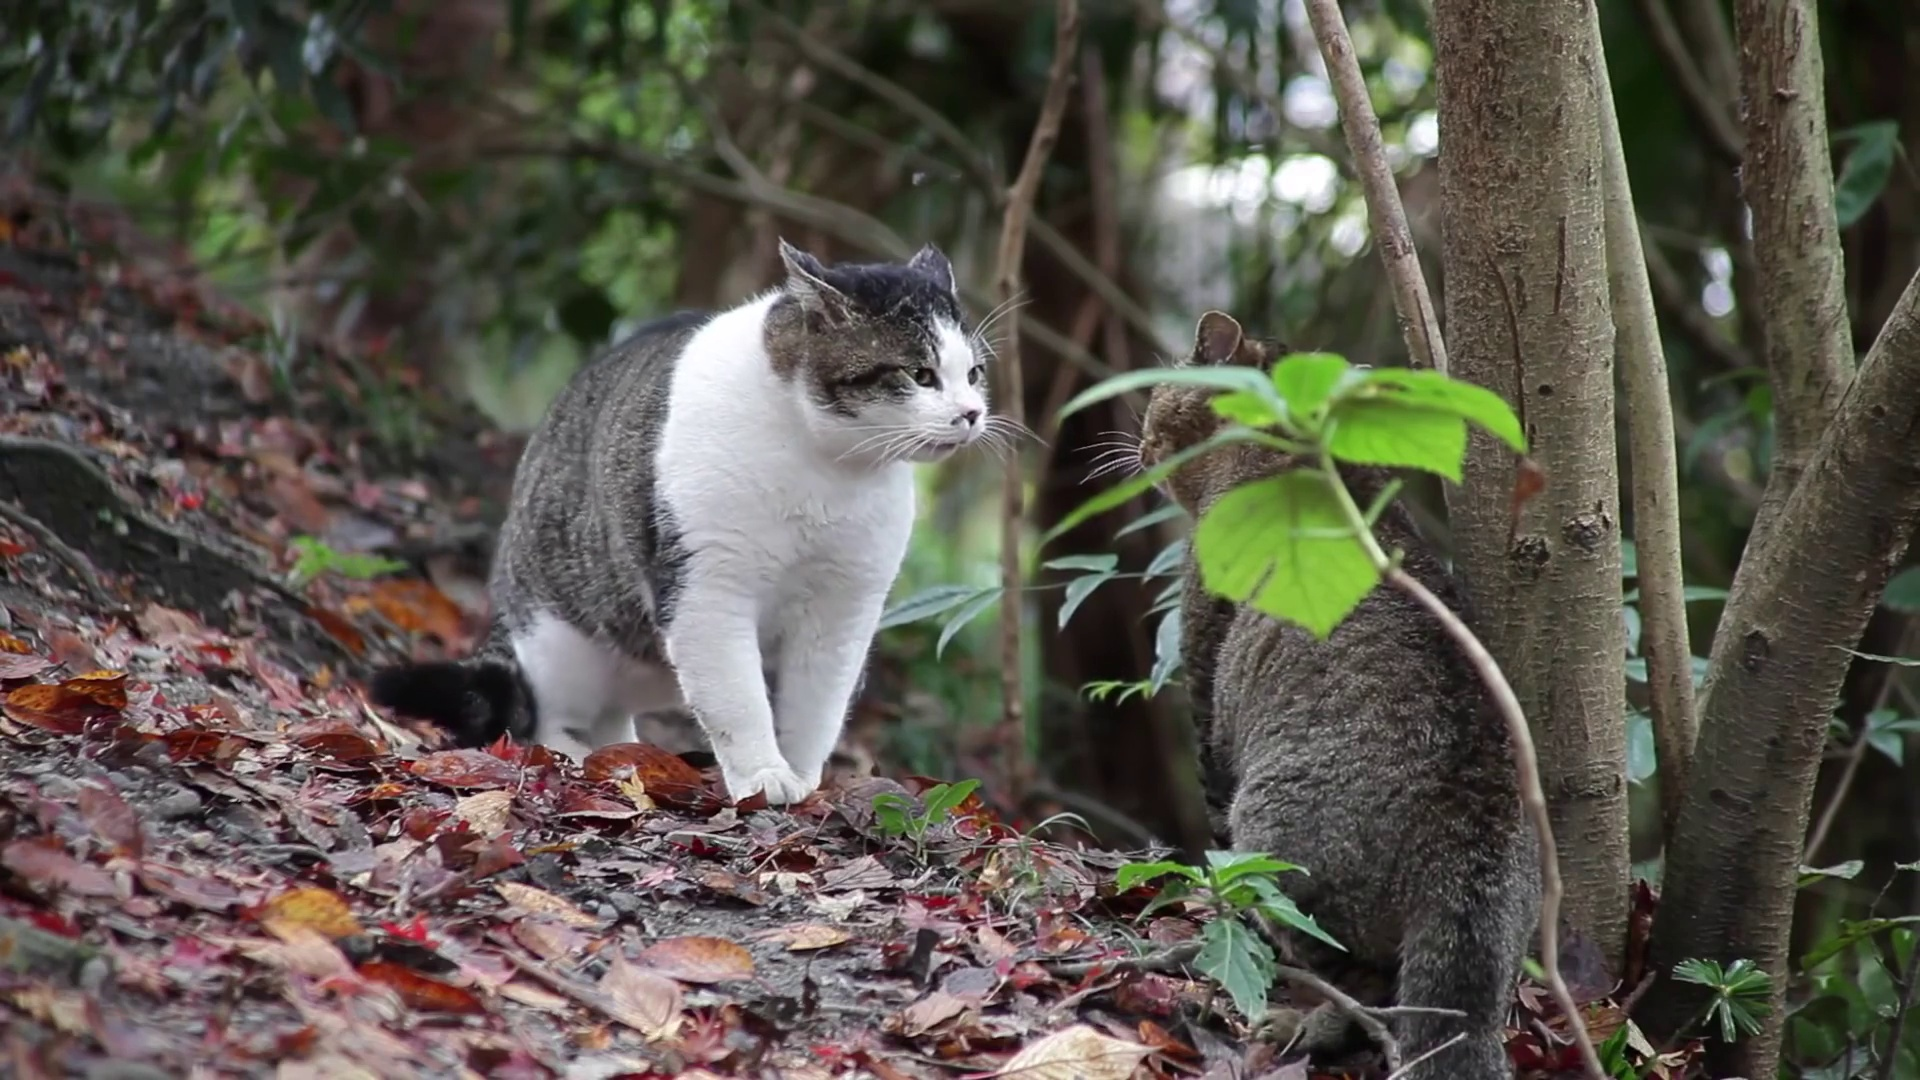black-white: (367, 237, 984, 804)
pure black: (1135, 309, 1544, 1080)
